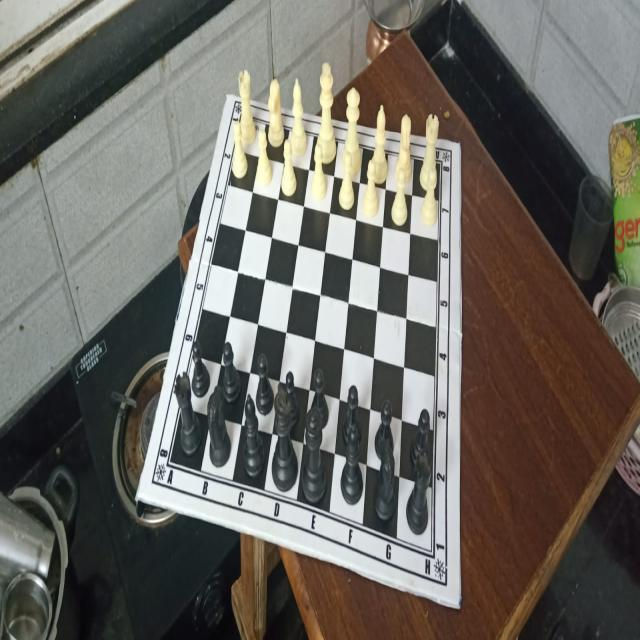corners: (128, 484, 146, 513), (220, 85, 235, 111), (452, 592, 467, 616), (452, 136, 466, 155)
